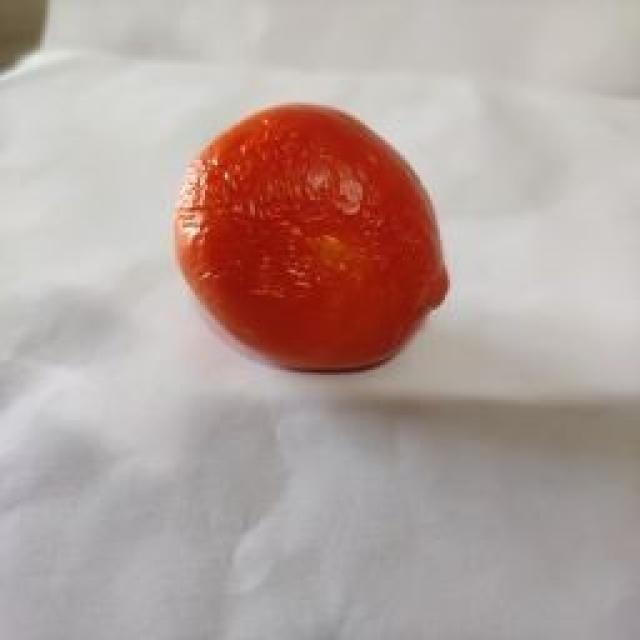overripe: (170, 98, 455, 375)
